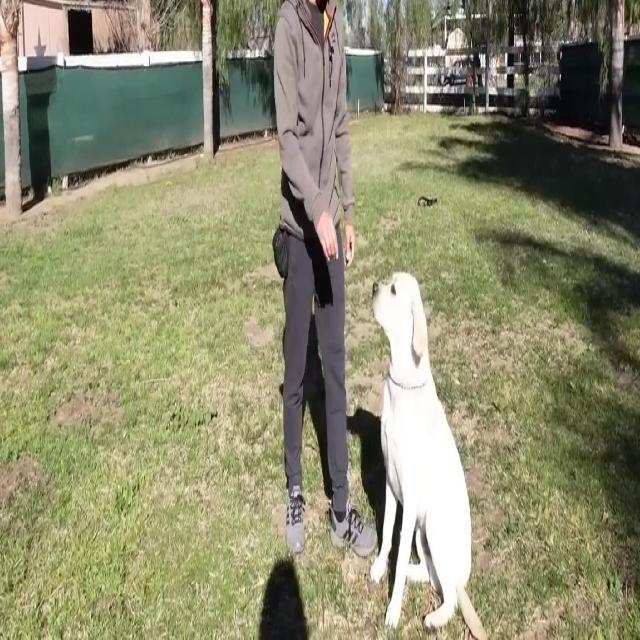Unleashed_Dog: (316, 227, 489, 640)
